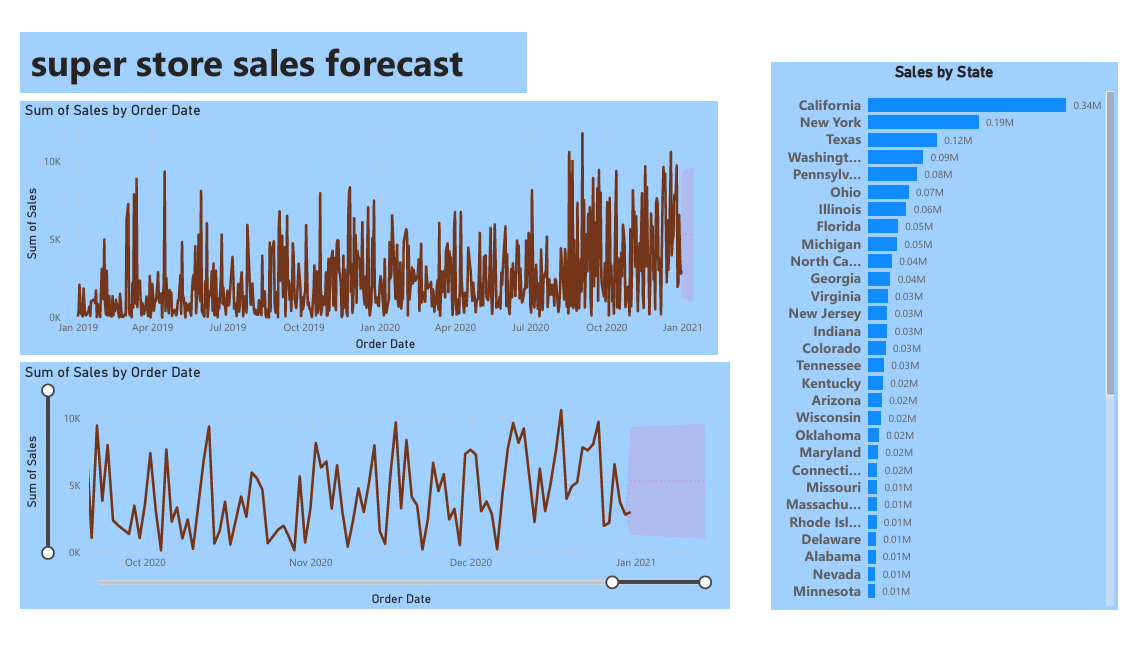

What the dashboard file says about the page in this screenshot:
{"tool":"powerbi","page":{"name":"Page 2","canvas":[1280,720],"ordinal":1},"visuals":[{"type":"lineChart","fields":{"Y":["Sum(SuperStore_Sales_Dataset.Sales)"],"Category":["SuperStore_Sales_Dataset.Order Date"]},"box":[0,96.6,814.4,295.9],"z":0},{"type":"lineChart","fields":{"Y":["Sum(SuperStore_Sales_Dataset.Sales)"],"Category":["SuperStore_Sales_Dataset.Order Date"]},"box":[0,402.3,827.9,287.4],"z":1000},{"type":"clusteredBarChart","title":"Sales by State","fields":{"Category":["SuperStore_Sales_Dataset.State"],"Y":["Sum(SuperStore_Sales_Dataset.Sales)"]},"box":[875.5,51.4,404.8,638.3],"z":1002},{"type":"textbox","box":[0,15.9,590.6,70.9],"z":1003}]}

Visuals, with their boxes in screenshot pixels (x1, y1, x2, y2), scaled from the page's 1280x720 canvas onto the 1138x650 screenshot:
lineChart - Sum(SuperStore_Sales_Dataset.Sales) x SuperStore_Sales_Dataset.Order Date: x1=0 y1=87 x2=724 y2=354
lineChart - Sum(SuperStore_Sales_Dataset.Sales) x SuperStore_Sales_Dataset.Order Date: x1=0 y1=363 x2=736 y2=623
"Sales by State" clusteredBarChart: x1=778 y1=46 x2=1137 y2=623
textbox: x1=0 y1=14 x2=525 y2=78
